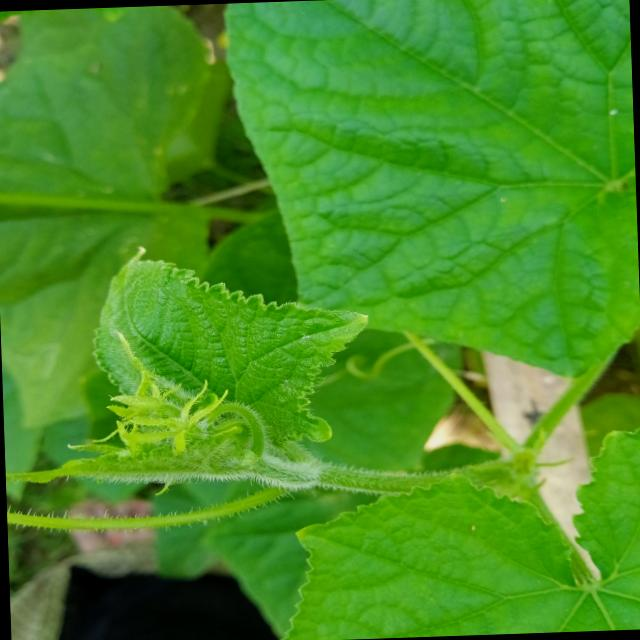cucumber_healthy: (213, 0, 640, 390), (0, 4, 241, 426), (272, 422, 640, 640), (89, 234, 379, 478)
